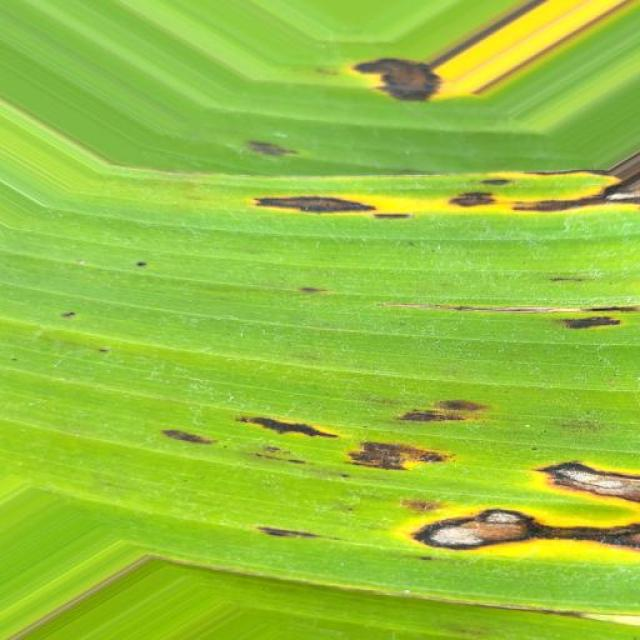Early_rust: (117, 26, 640, 623)
